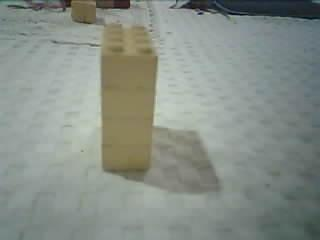lego: (96, 21, 160, 173), (70, 1, 96, 24)
